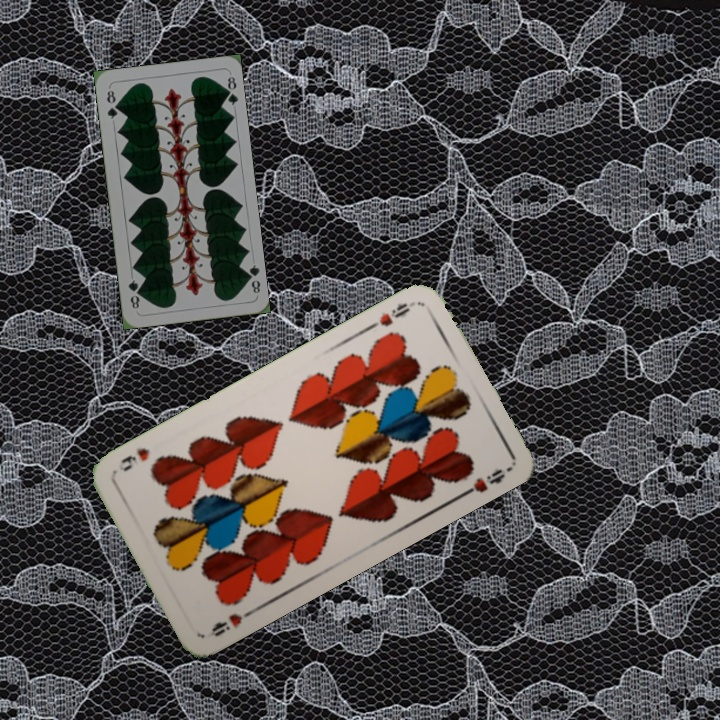G8: (241, 261, 263, 296), (102, 86, 121, 122)
H9: (364, 297, 419, 333), (203, 604, 258, 639)
